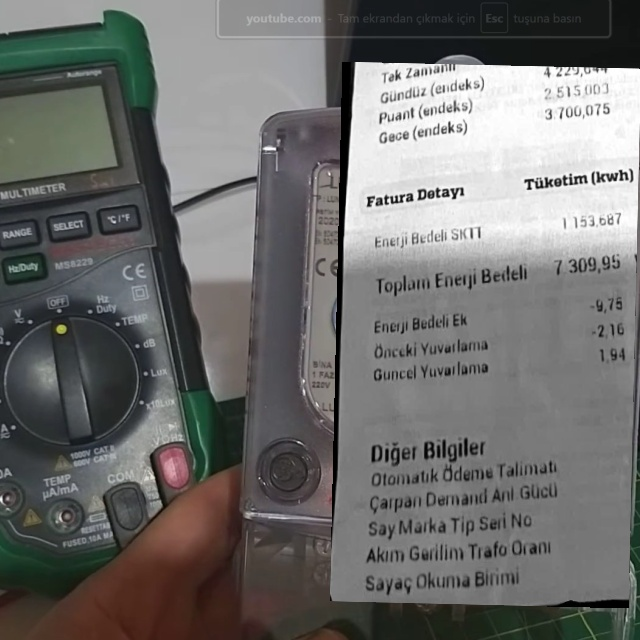electricity-bill: (329, 61, 639, 607)
